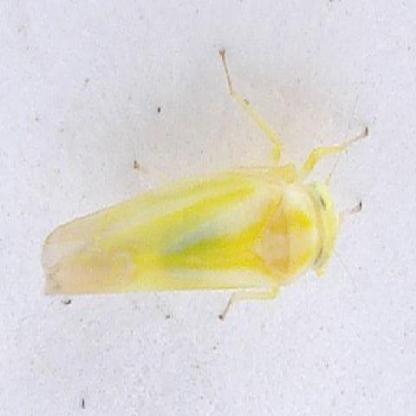green-leafhopper: (41, 49, 370, 321)
